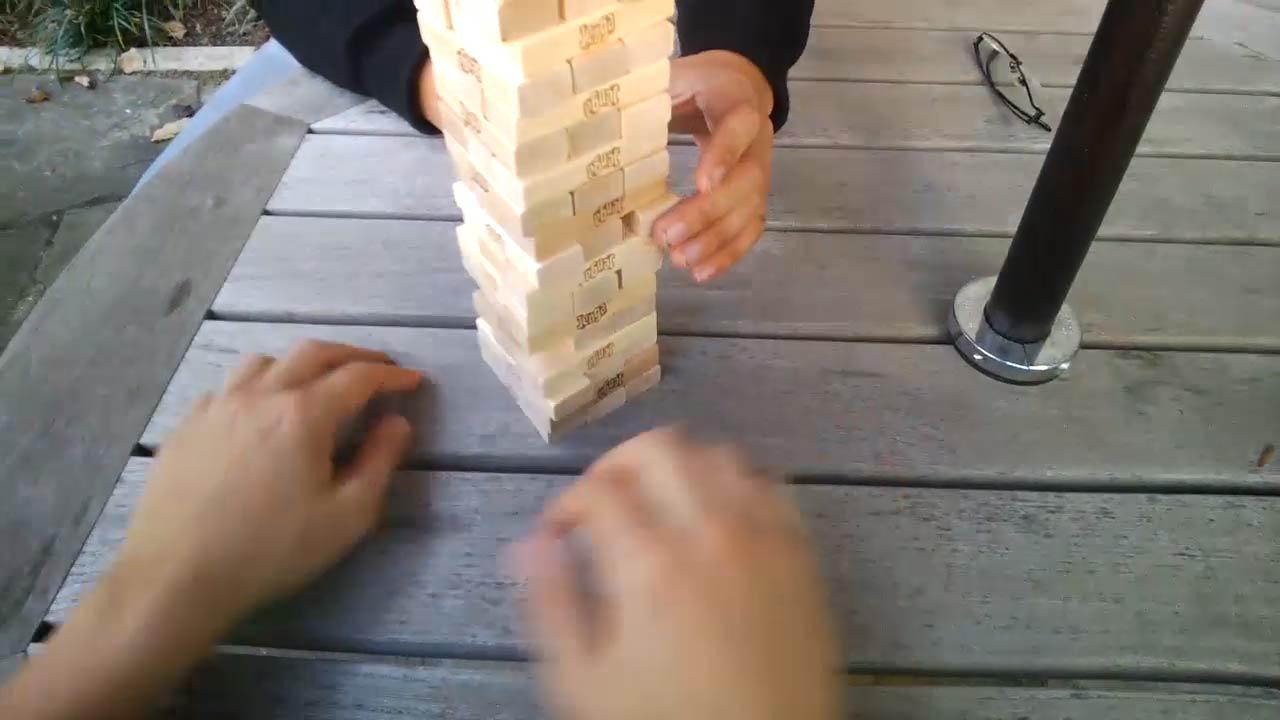hand: (497, 426, 859, 720), (129, 336, 425, 629), (649, 45, 780, 285)
